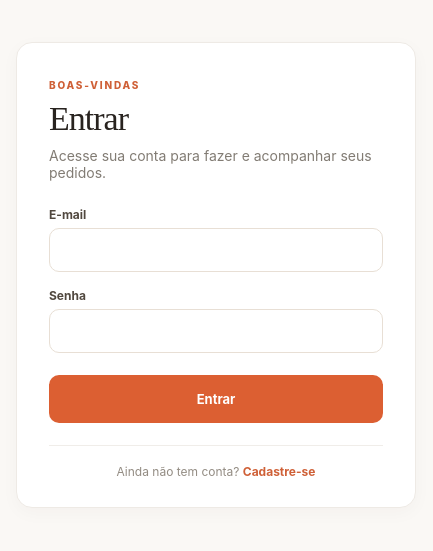
Scenario: Login › e-mail vazio bloqueia o envio
Type "123456" into the password field labelled "Senha".
click(216, 331); type("123456")  # box [49,309,383,353]
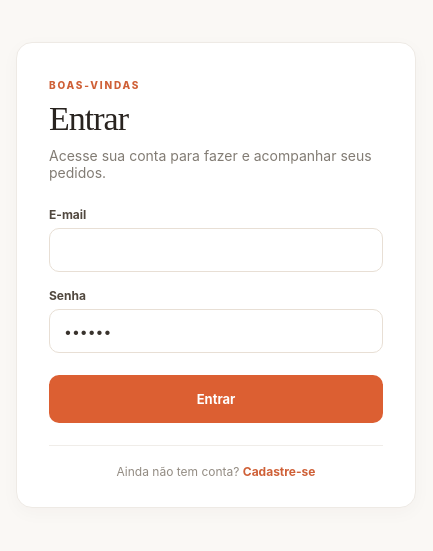
Click the button "Entrar".
click(216, 399)  # box [49,375,383,423]
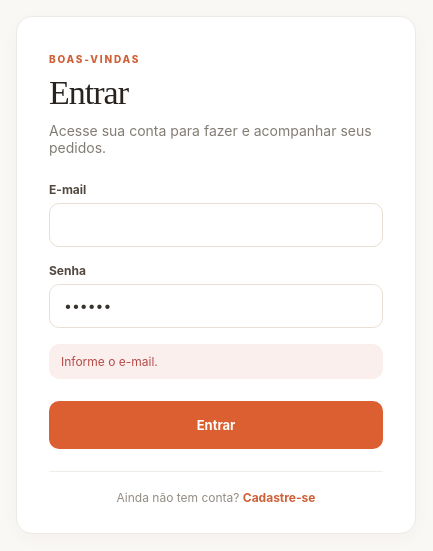
Expected: the message reads "Informe o e-mail.", [61,354,158,369]
